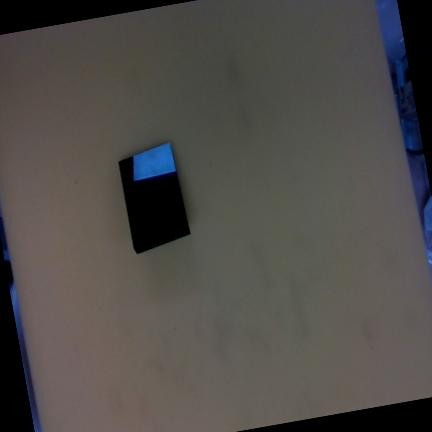tile: (113, 143, 191, 249)
